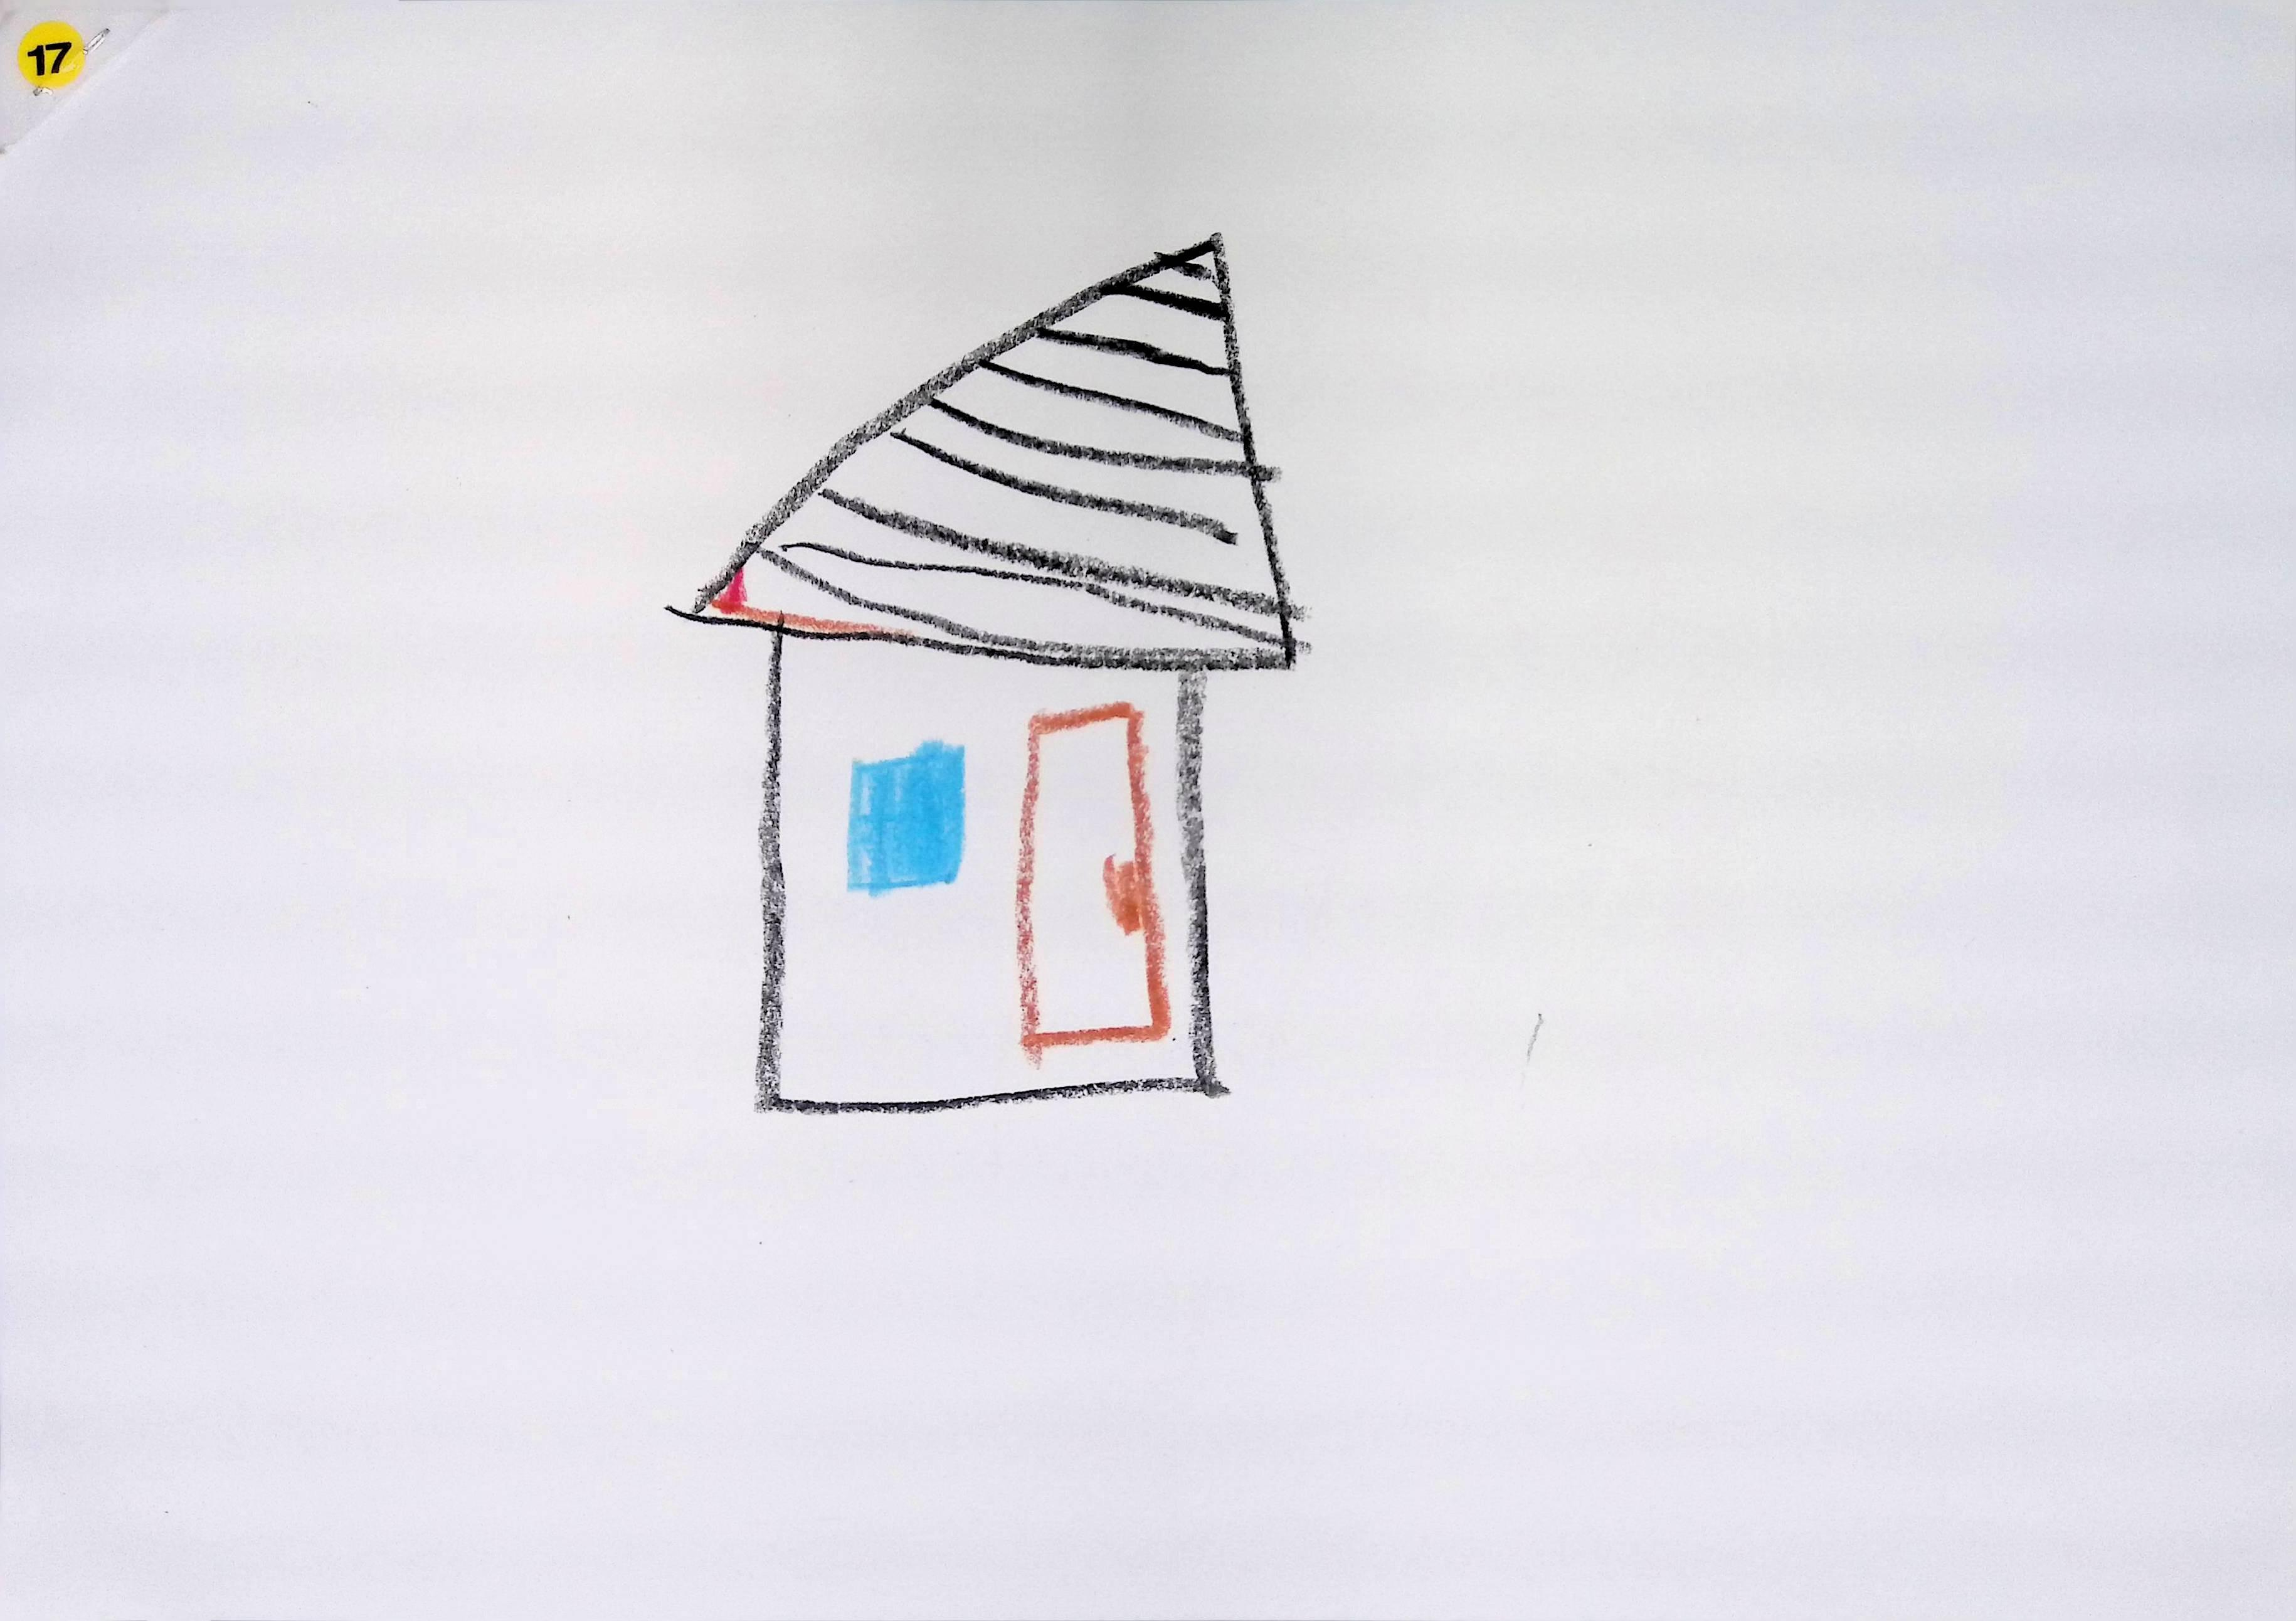door: (1017, 702, 1172, 1056)
house: (674, 232, 1301, 1112)
roof: (675, 230, 1307, 661)
wall: (759, 633, 1217, 1107)
window: (847, 740, 963, 895)
